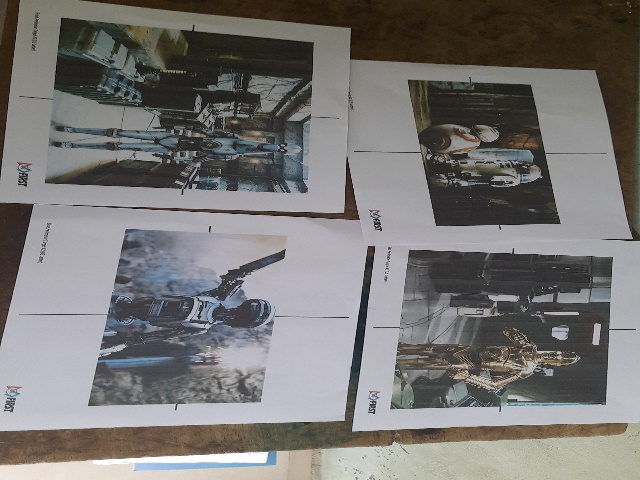bpt2: (35, 217, 338, 425)
fpt1: (38, 7, 334, 207)
fpt2: (382, 72, 597, 235)
rpt1: (385, 248, 625, 425)
